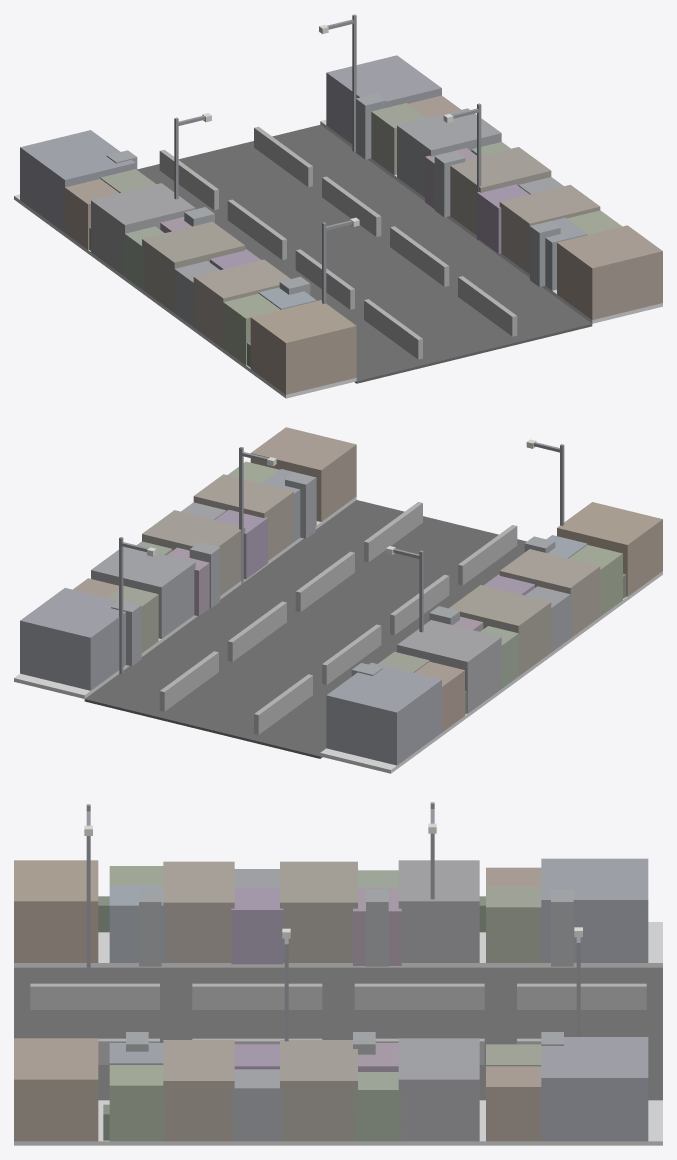
The model's file is yeshwantpur.gltf.
3 renders of one model, top to bottom at view 1: azimuth 30°, elevation 25°; view 2: azimuth 150°, elevation 25°; view 3: azimuth 270°, elevation 25°, orthographic. The views are drawn at different scales.
Size of the model in its own units: 16 by 5.6 by 20.
